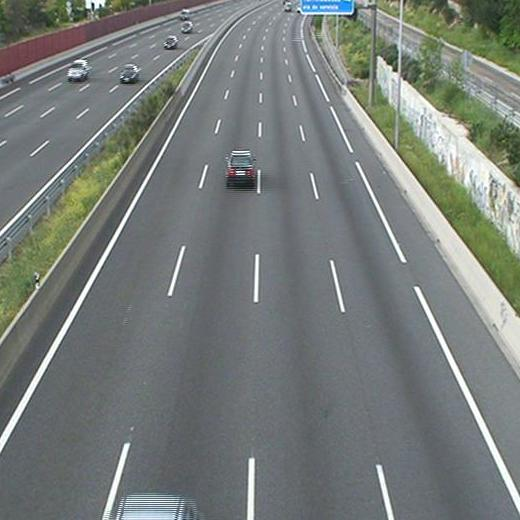car: (226, 151, 254, 181)
